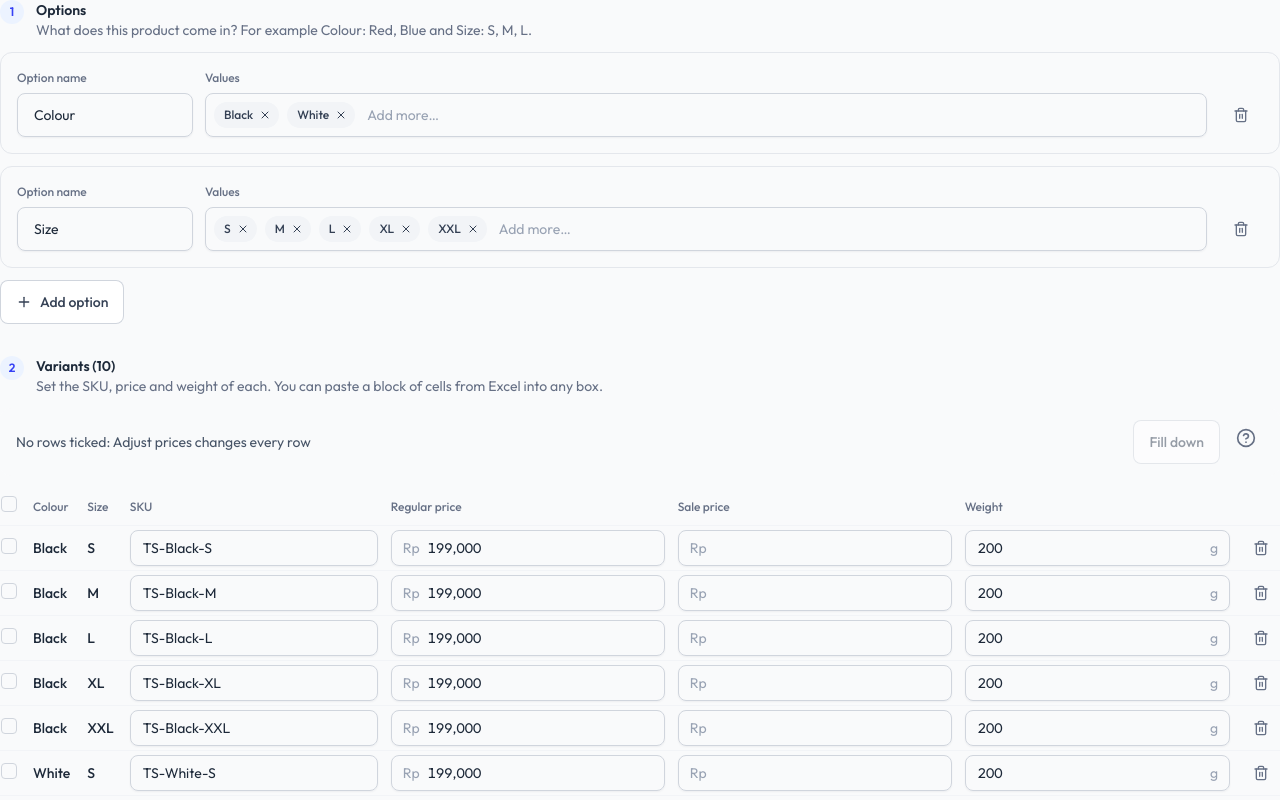
VariantMatrix (P1-046) › asks before removing an option or a value
This screenshot has width=1280, height=800.
Click the button named "Remove option Size" at (1241, 229), box [1219,207,1263,251]
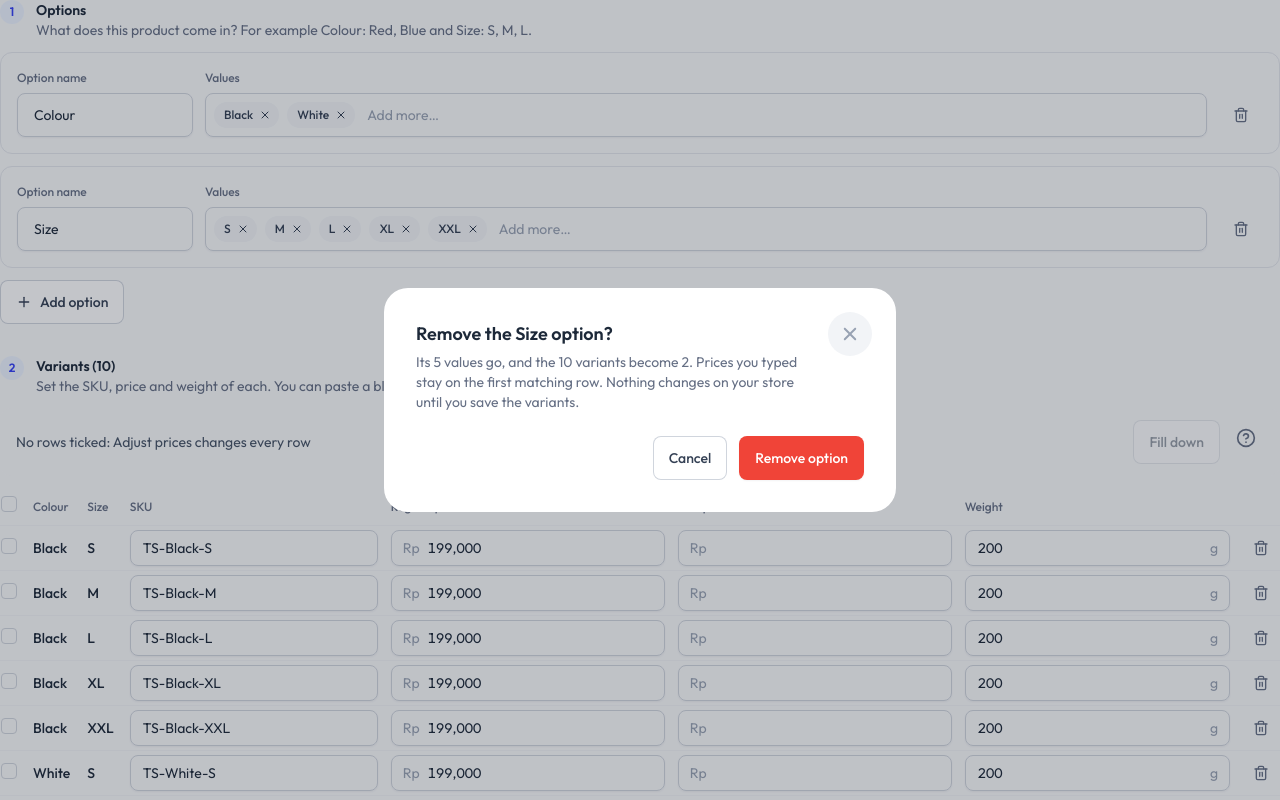
Expected: the heading "Remove the Size option?" is shown, [416,322,613,345]
Click the button "Cancel" at (690, 458), box [653,436,727,480]
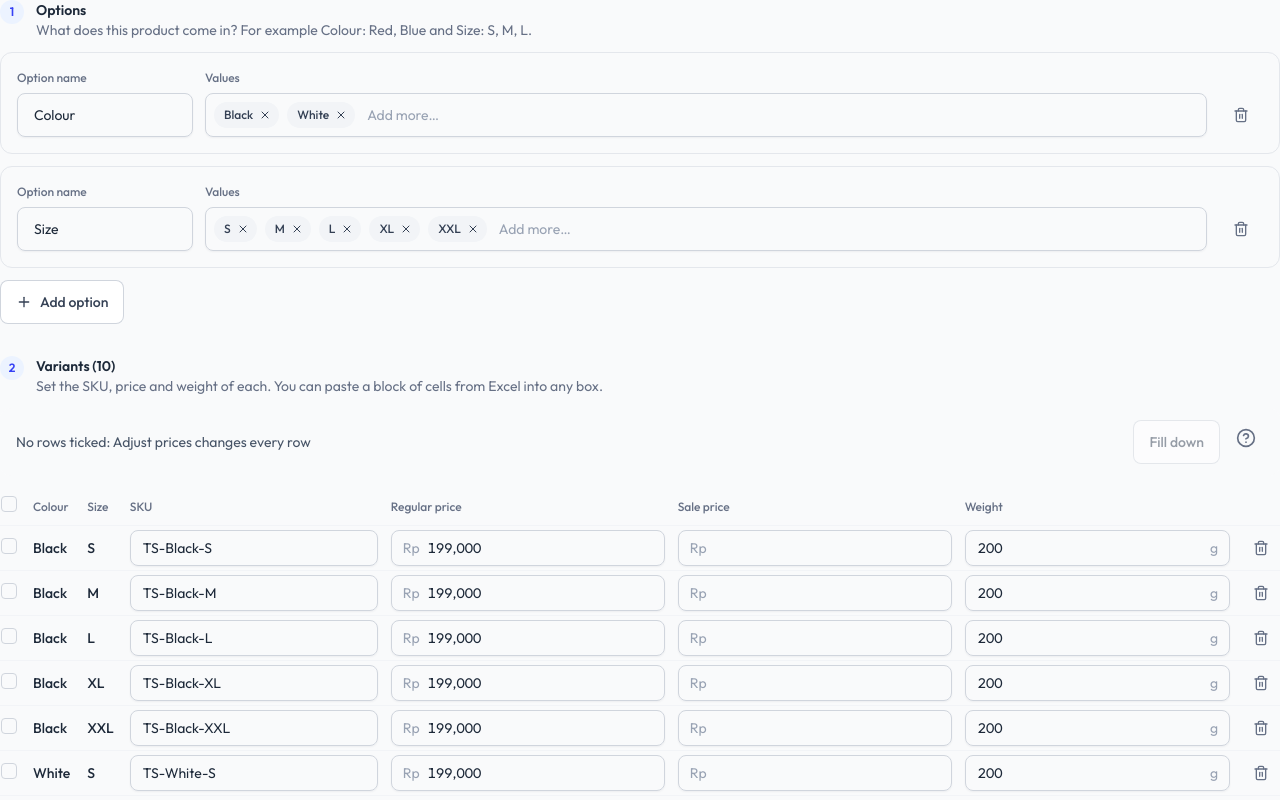
Click the button named "Remove XXL" at (473, 229), box [465,221,481,237]
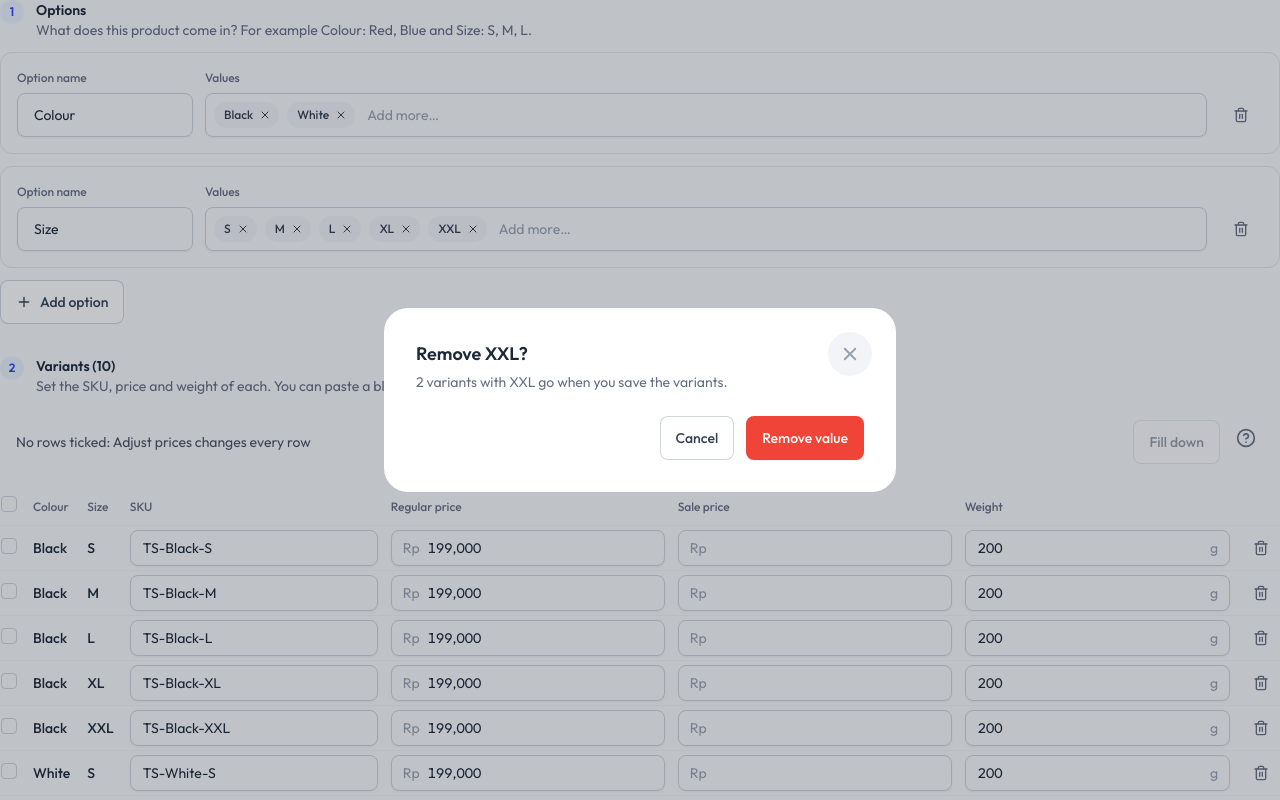
Expected: the text "2 variants with XXL go when you save the variants." is shown, [416,373,728,391]
Click the button "Remove value" at (805, 438), box [746,416,864,460]
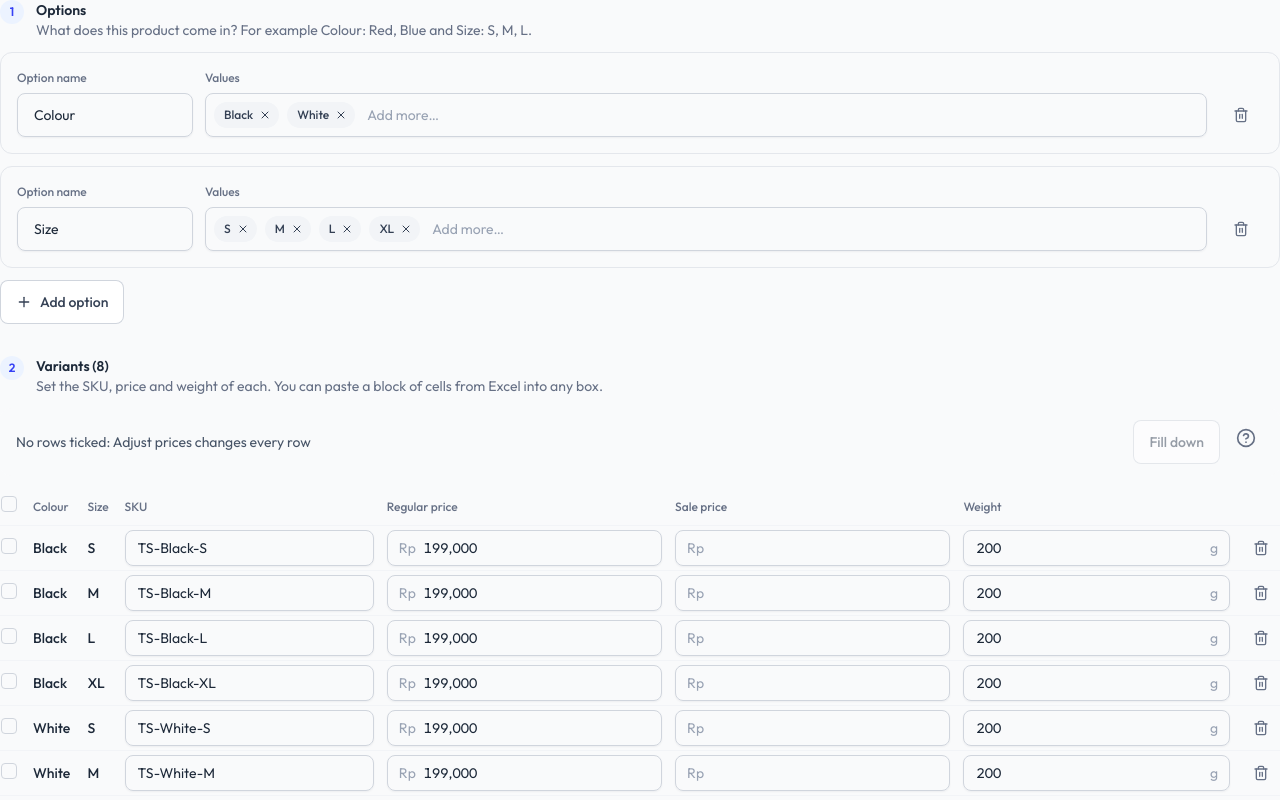
Expected: the number of rows is 9
Click the button named "Remove option Size" at (1241, 229), box [1219,207,1263,251]
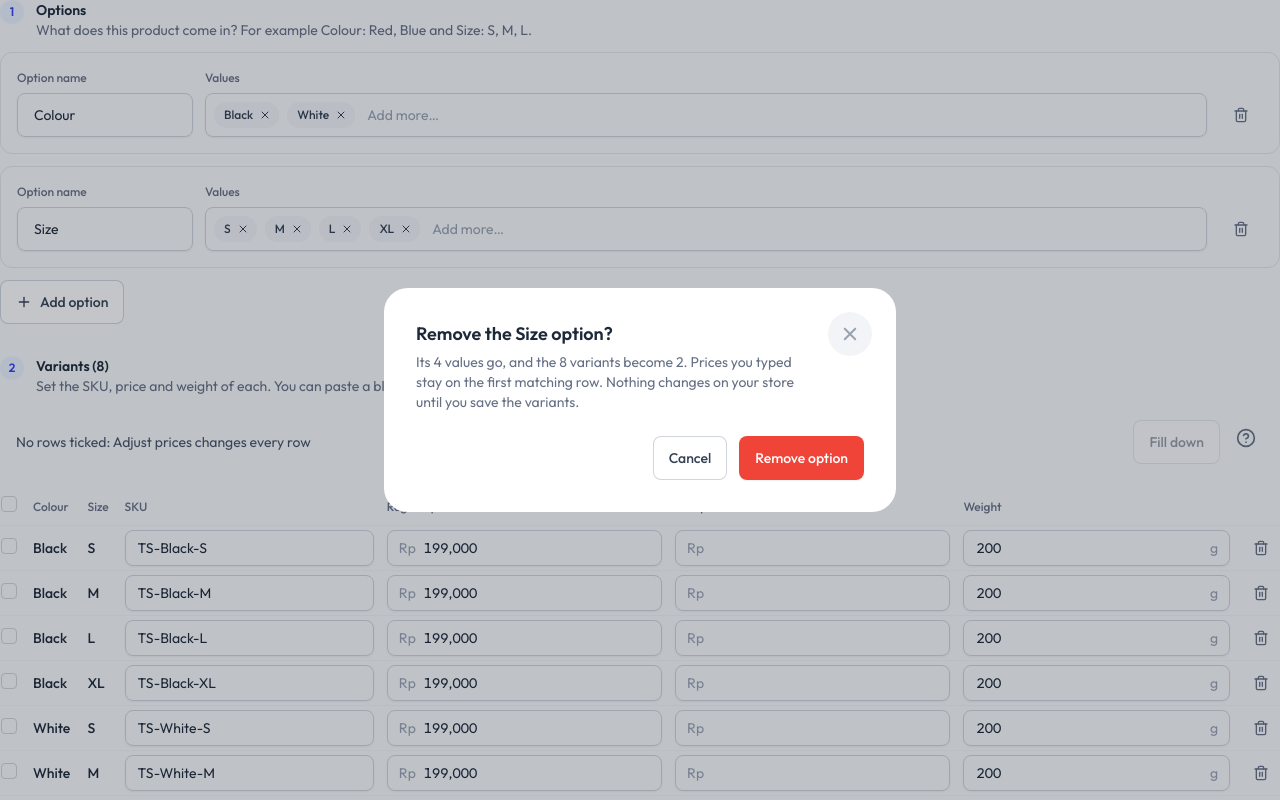
Click the button "Remove option" at (802, 458), box [739,436,864,480]
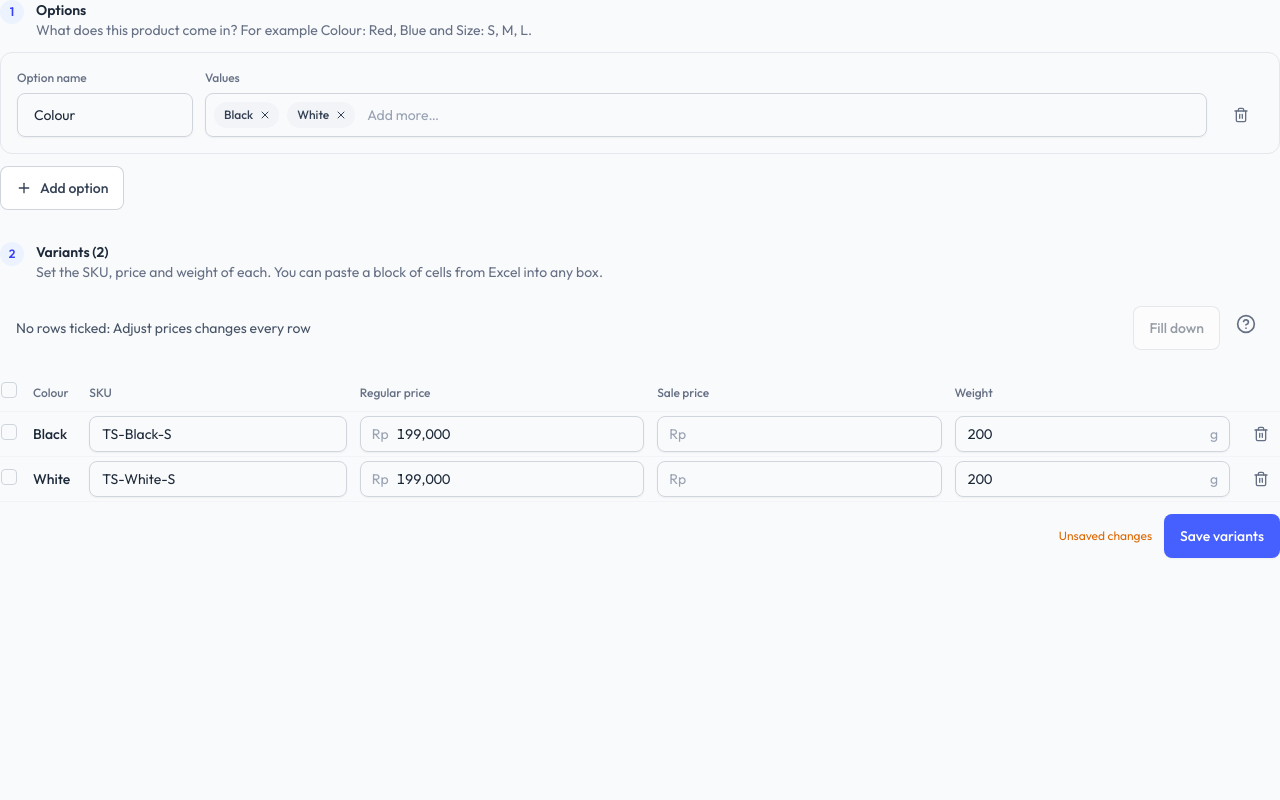
Expected: the number of rows is 3, [0,374,1279,412]; [0,412,1279,456]; [0,456,1279,502]
Expected: the field named "SKU for Black" holds "TS-Black-S", [89,416,347,452]
